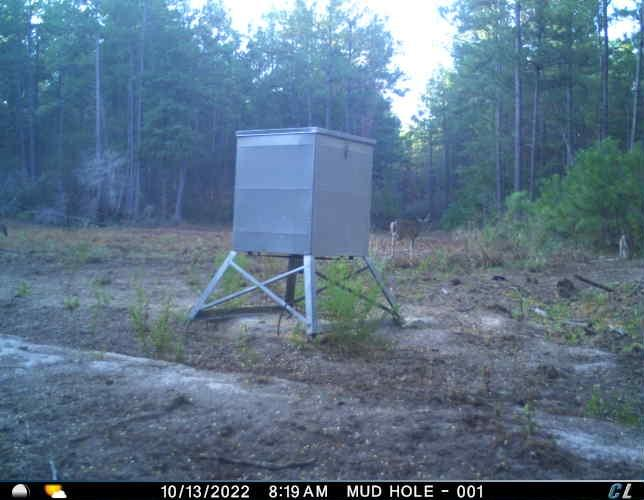Deer: (387, 211, 435, 264), (0, 218, 10, 242)
